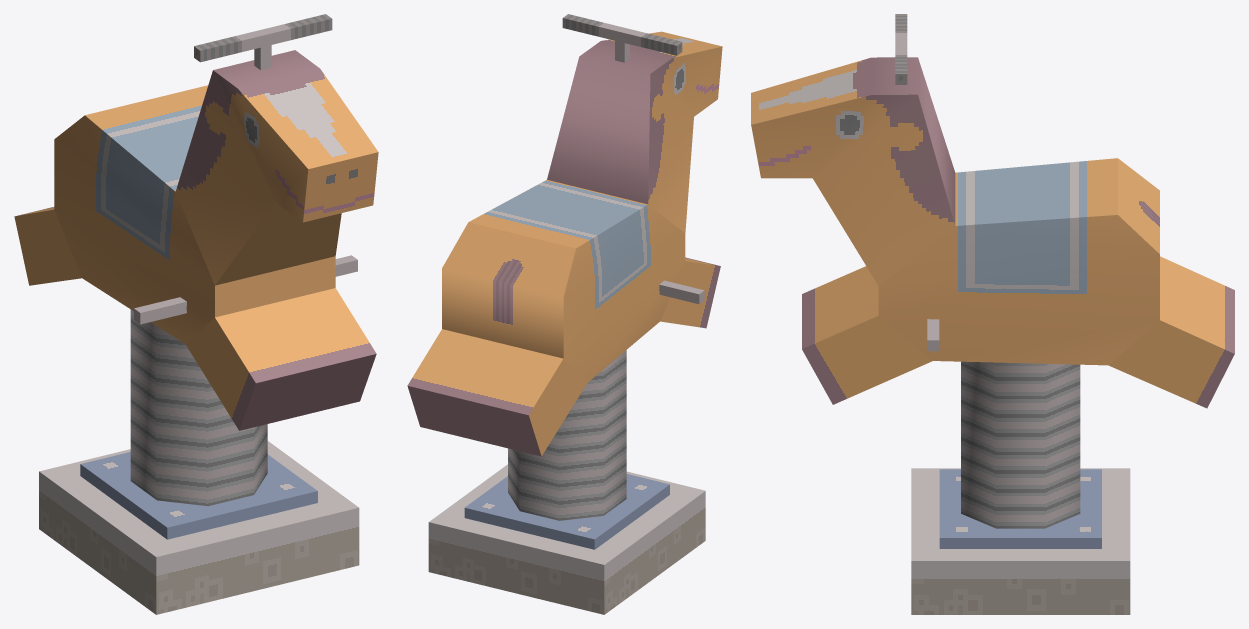
Rendered from 02a6_Rocking_Horse.glb.
3 renders of one model, left to right at view 1: azimuth 30°, elevation 25°; view 2: azimuth 150°, elevation 25°; view 3: azimuth 270°, elevation 25°, orthographic. The views are drawn at different scales.
Visible parts, largest first — view 1: part_0; view 2: part_0; view 3: part_0.
Part boxes in pixels (x1,y1,x2,y2): part_0: [14, 14, 378, 614]; part_0: [407, 14, 722, 614]; part_0: [751, 14, 1234, 614].
Size of the model in its own units: 0.3824 by 0.9428 by 0.7879.
1 material, 1 textured.
